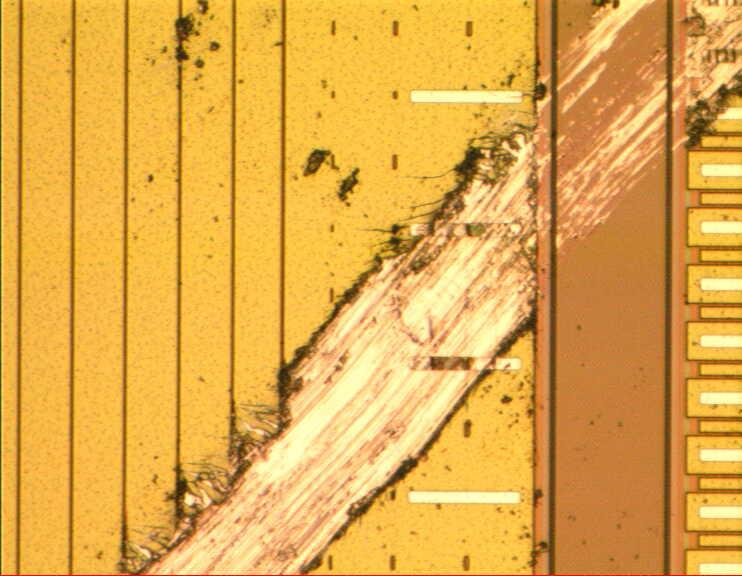SCRATCH: (106, 1, 742, 576)
